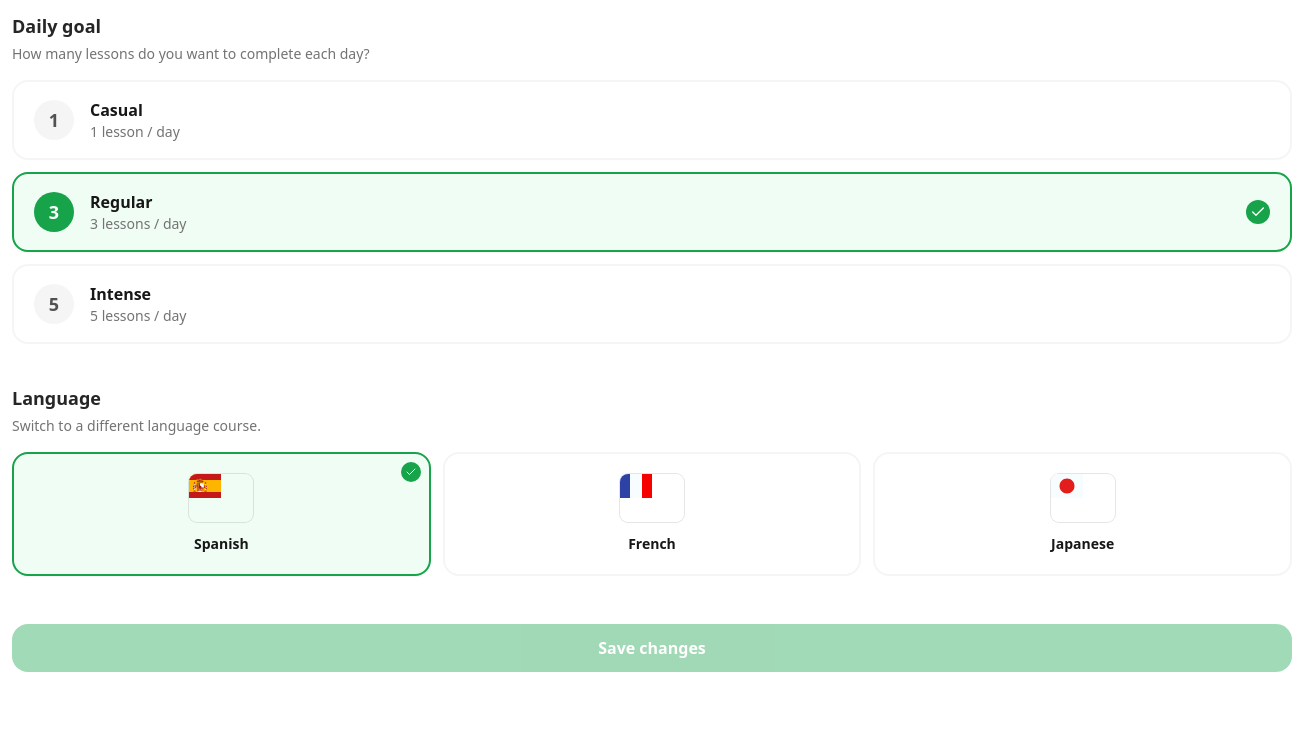
SettingsForm › should enable Save button when language changes
The width and height of the screenshot is (1304, 732).
Click the button "French": (652, 514) [443, 452, 861, 576]
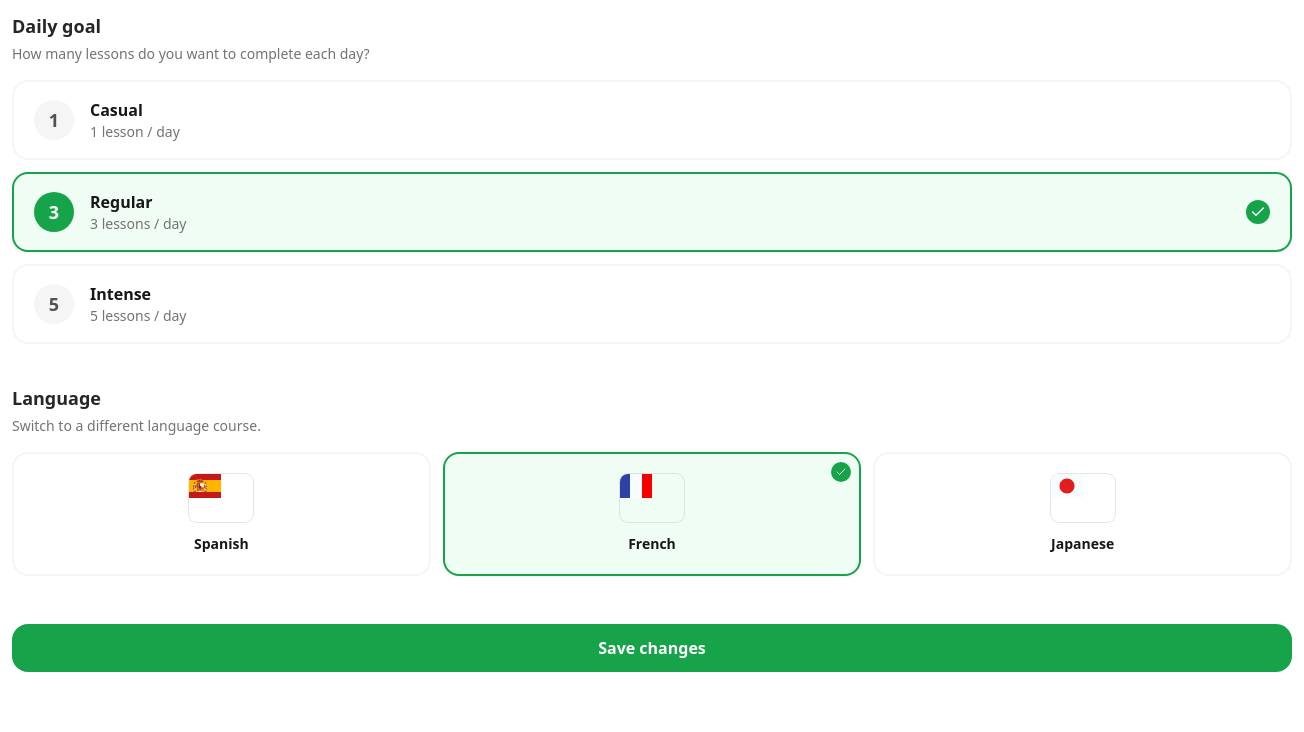
Result: the button "Save changes" is enabled at [12, 624, 1292, 672]
